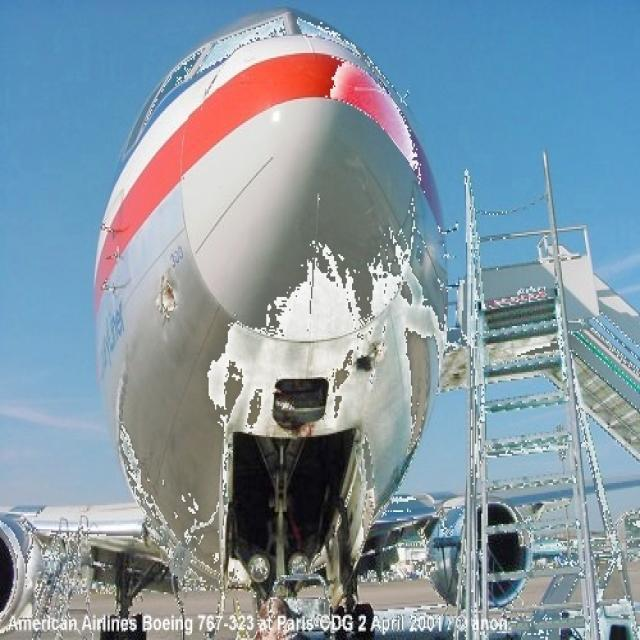dent: (160, 277, 187, 325)
